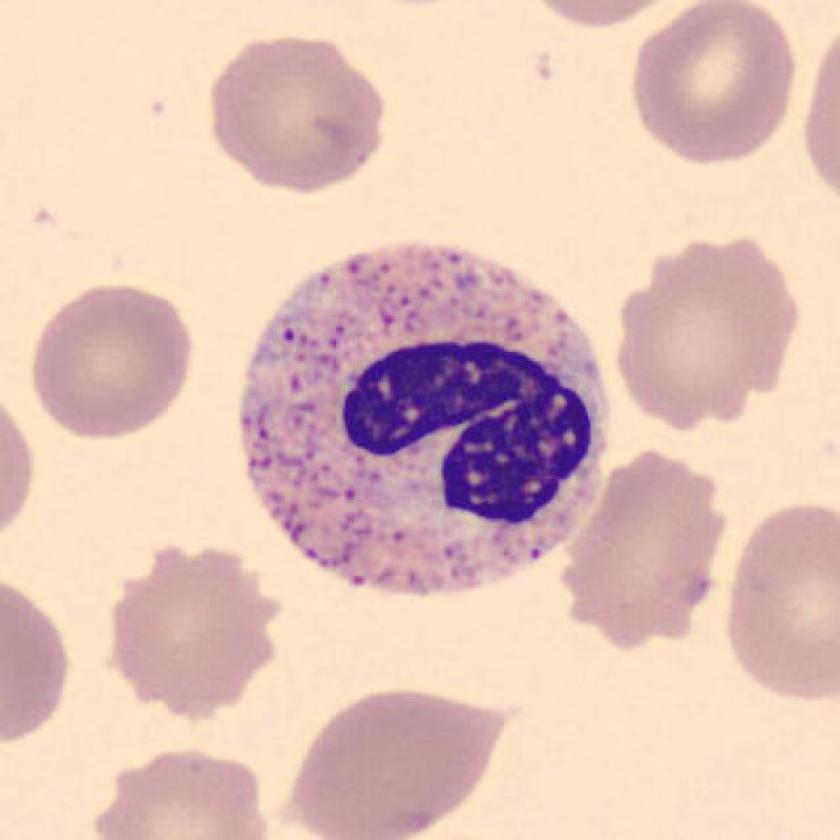neutrophil: (241, 246, 613, 593)
